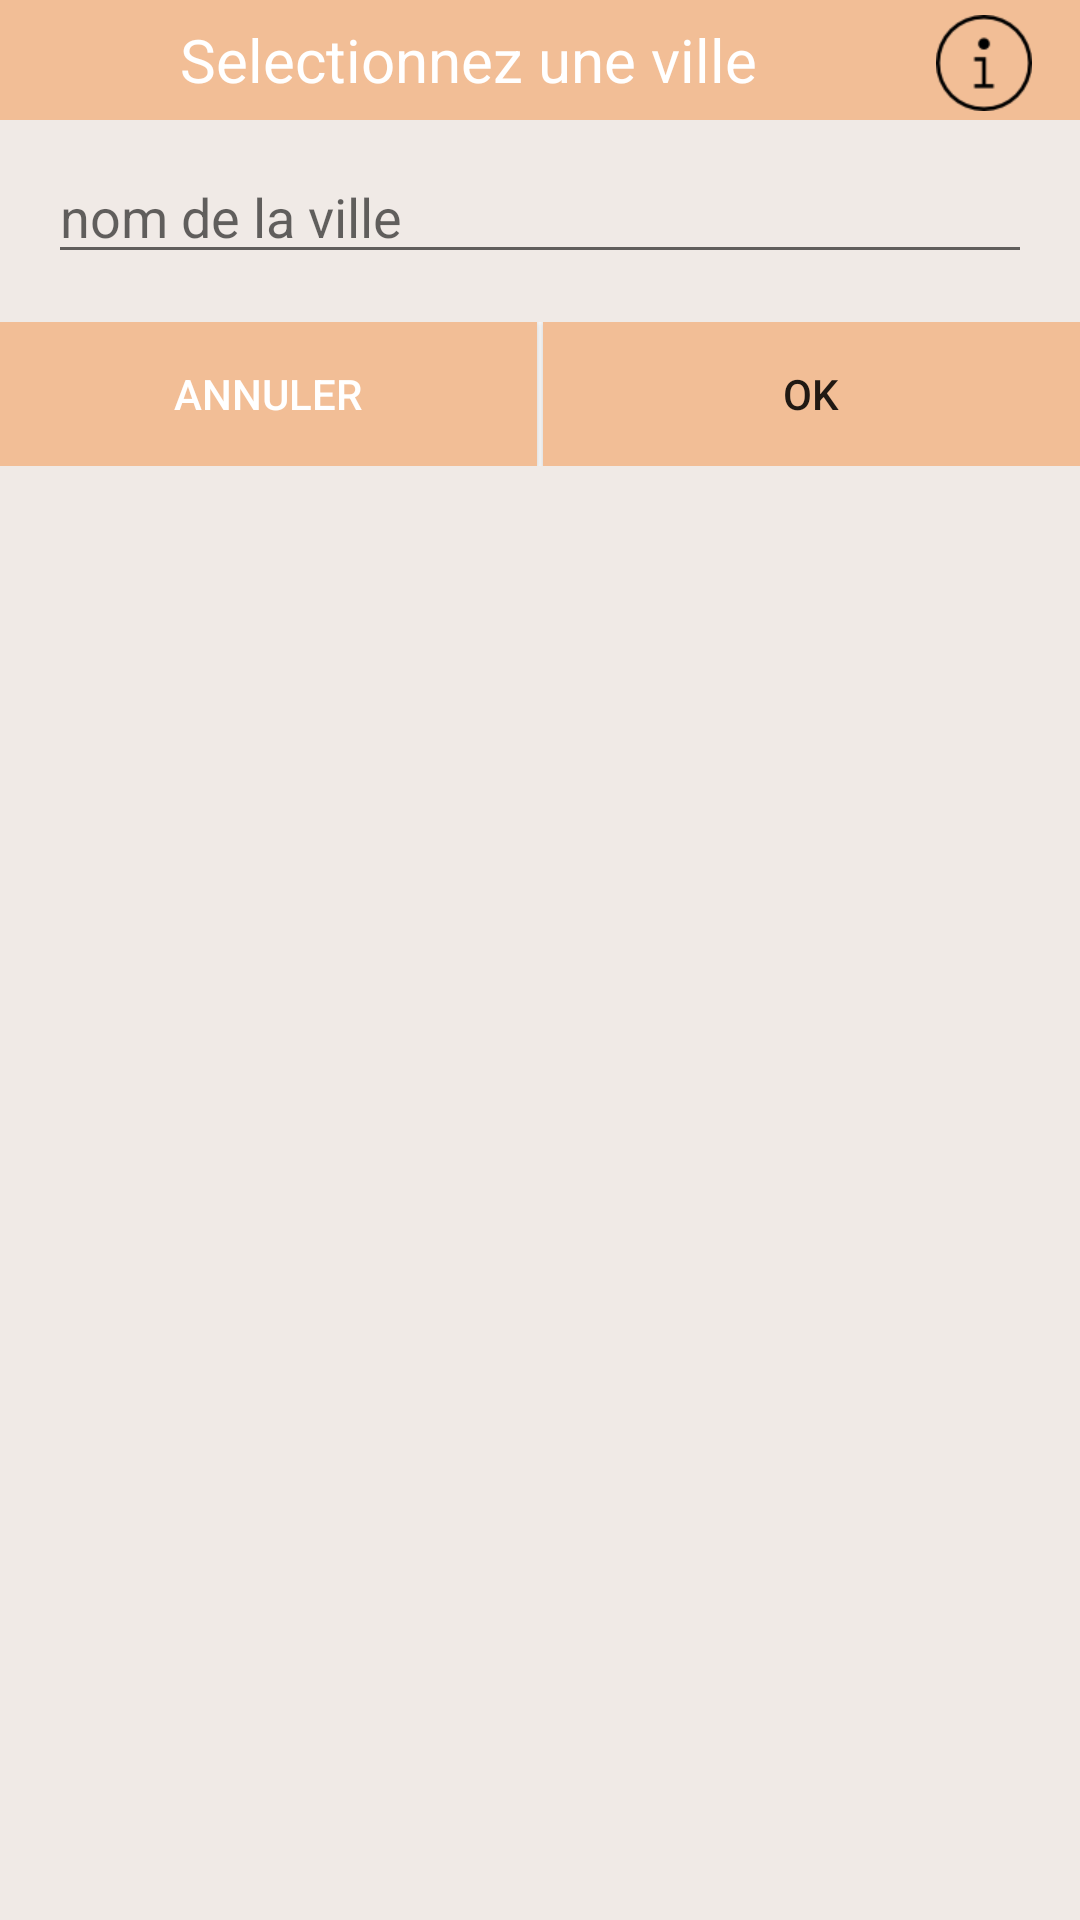

Screen size 1080 × 1920. Icon name, then its center in pixels as (x=x, y=y):
info: (x=984, y=63)
